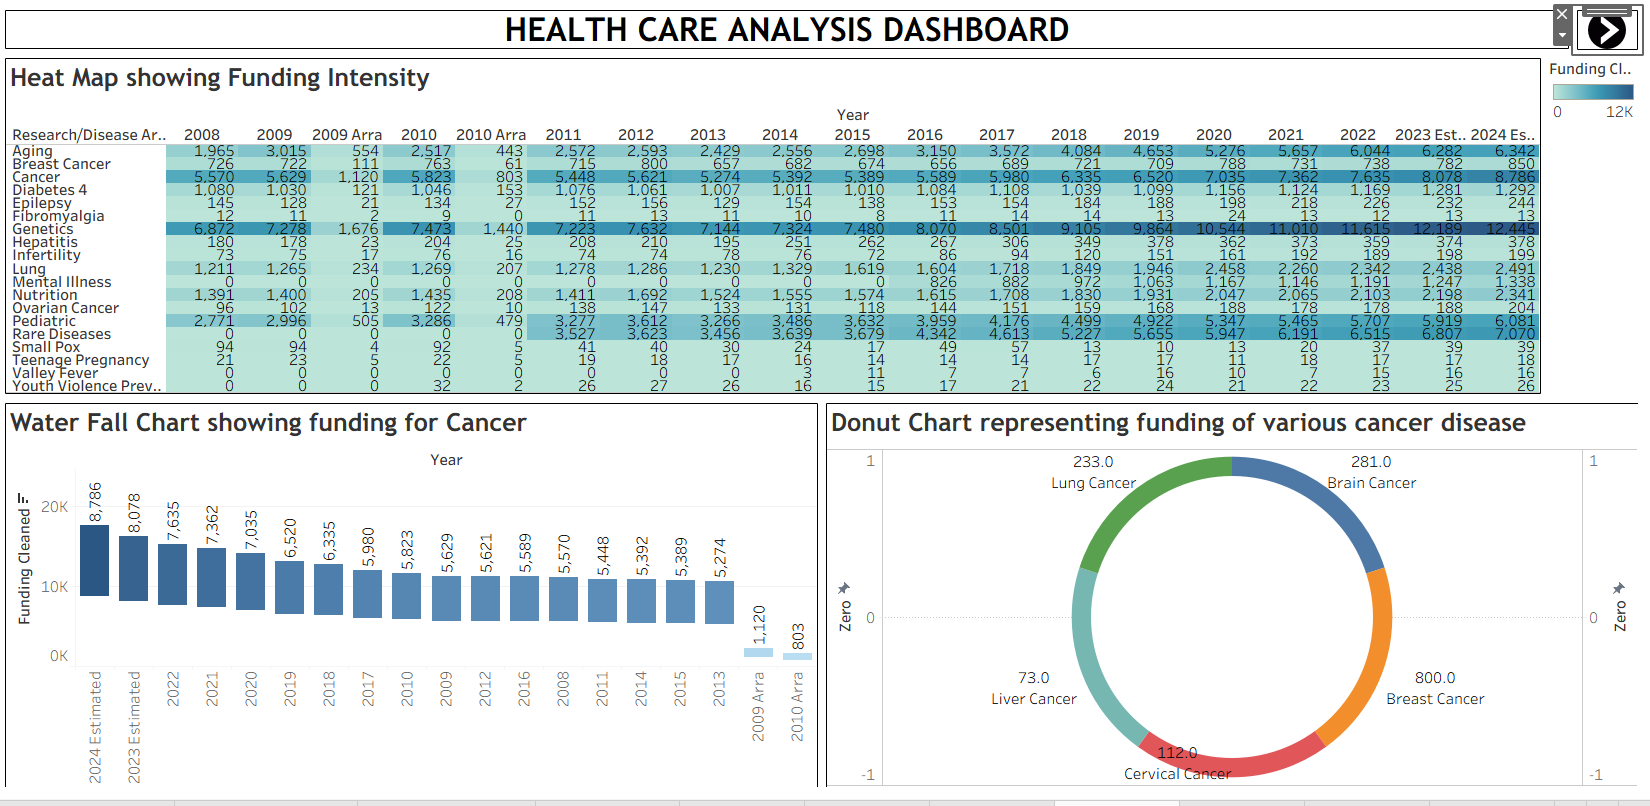

What the dashboard file says about the page in this screenshot:
{"tool":"tableau","page":{"name":"Dashboard 4","canvas":[1000,1000],"units":"permille","ordinal":3},"visuals":[{"type":"text","box":[4.8,10,948.7,58.7]},{"type":"dashboard-object","box":[953.5,10,41.6,59.9]},{"type":"worksheet","title":"Heat Map","mark":"Automatic","rows":["Research/Disease Areas"],"cols":["Pivot Field Names"],"box":[4.8,69.9,931.8,430.1]},{"type":"legend","title":"Heat Map","param":"[federated.0bgmugz1a1cw1t11nrt9d1o7sp34].[sum:Calculation_335518175856336896:qk]","box":[936.6,69.9,58.5,430.1]},{"type":"worksheet","title":"Water Fall Chart","mark":"GanttBar","rows":["Calculation_335518175856336896"],"cols":["Pivot Field Names"],"box":[4.8,500,495.2,490]},{"type":"worksheet","title":"Donut Chart","mark":"Pie","rows":["Calculation_1005991570773639169","Calculation_1005991570773639169"],"box":[500,500,495.2,490]}]}

Visuals, with their boxes on the dashboard's canvas, which has no fixed pixel size, in thousandths of its width and height (x1, y1, x2, y2). These are canvas units, not pixel positions in the 1650x806 screenshot, which may show the page scaled, cropped or inside an application window:
text: [x1=5, y1=10, x2=954, y2=69]
dashboard-object: [x1=954, y1=10, x2=995, y2=70]
"Heat Map" worksheet: [x1=5, y1=70, x2=937, y2=500]
"Heat Map" legend: [x1=937, y1=70, x2=995, y2=500]
"Water Fall Chart" worksheet (GanttBar marks): [x1=5, y1=500, x2=500, y2=990]
"Donut Chart" worksheet (Pie marks): [x1=500, y1=500, x2=995, y2=990]
